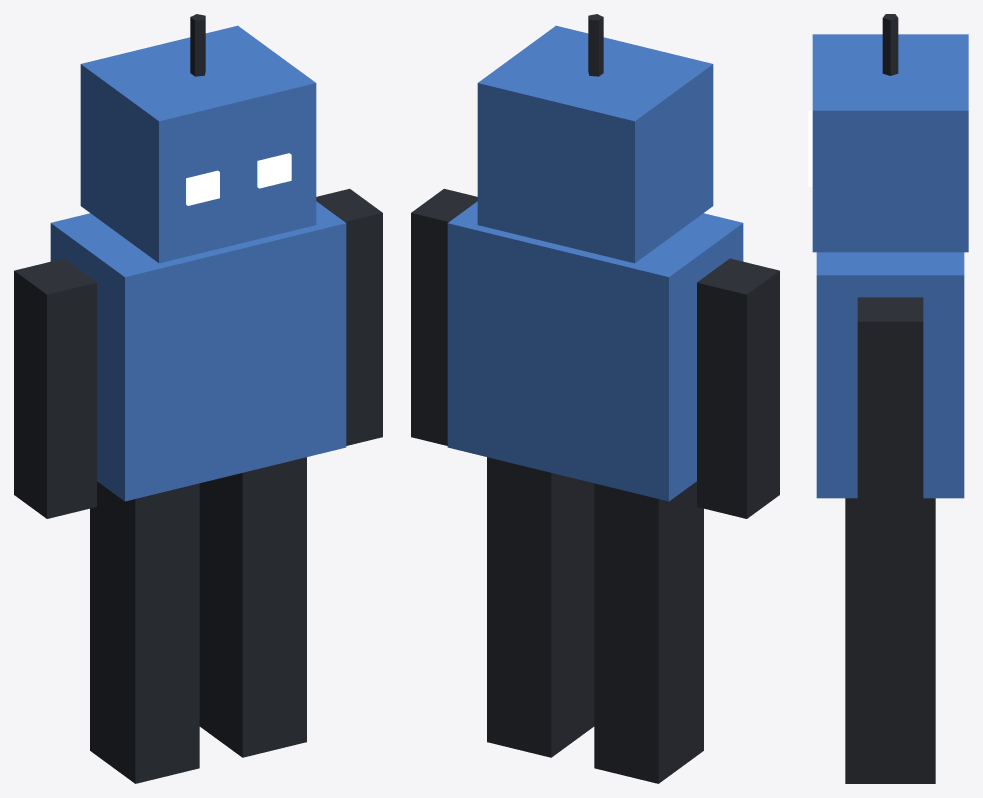
File: robot.glb
3 renders of one model, left to right at view 1: azimuth 30°, elevation 25°; view 2: azimuth 150°, elevation 25°; view 3: azimuth 270°, elevation 25°, orthographic.
Bounding box in the file's own units: 0.94 × 1.95 × 0.39.
